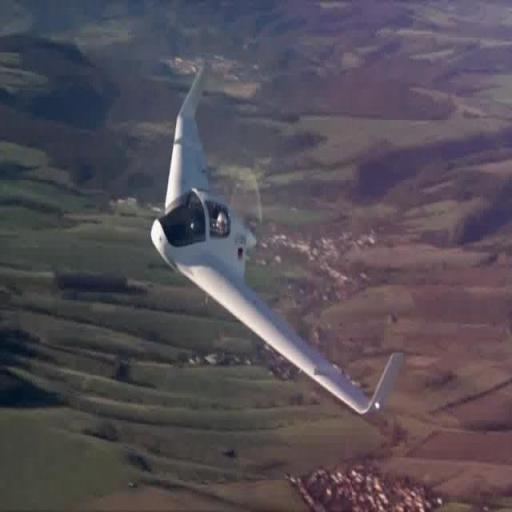uav: (150, 59, 400, 423)
